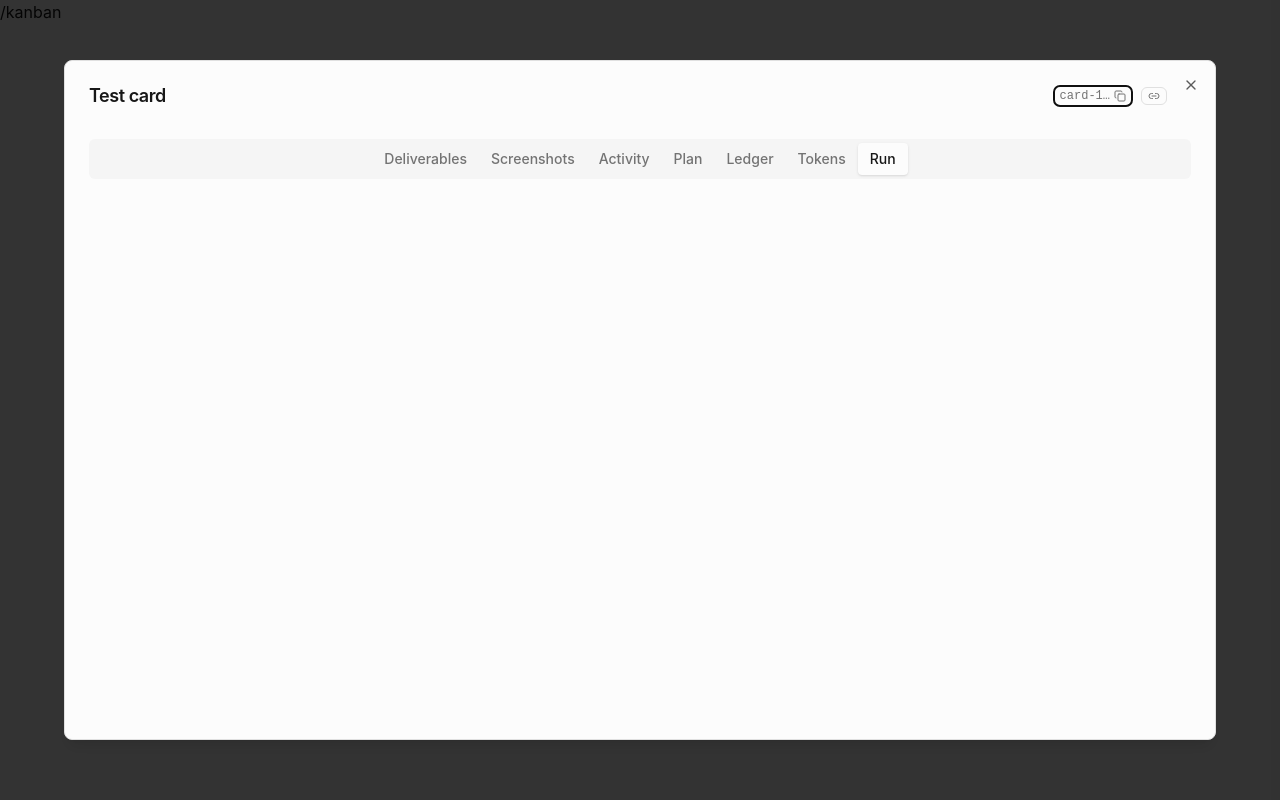
Test case: CardDrawer Ledger tab › offers the transcript link for a card with an active agent session
Step 1. Press the mouse on the tab "Ledger" → (750, 159), box [714,143,786,175]
(page scrolled)
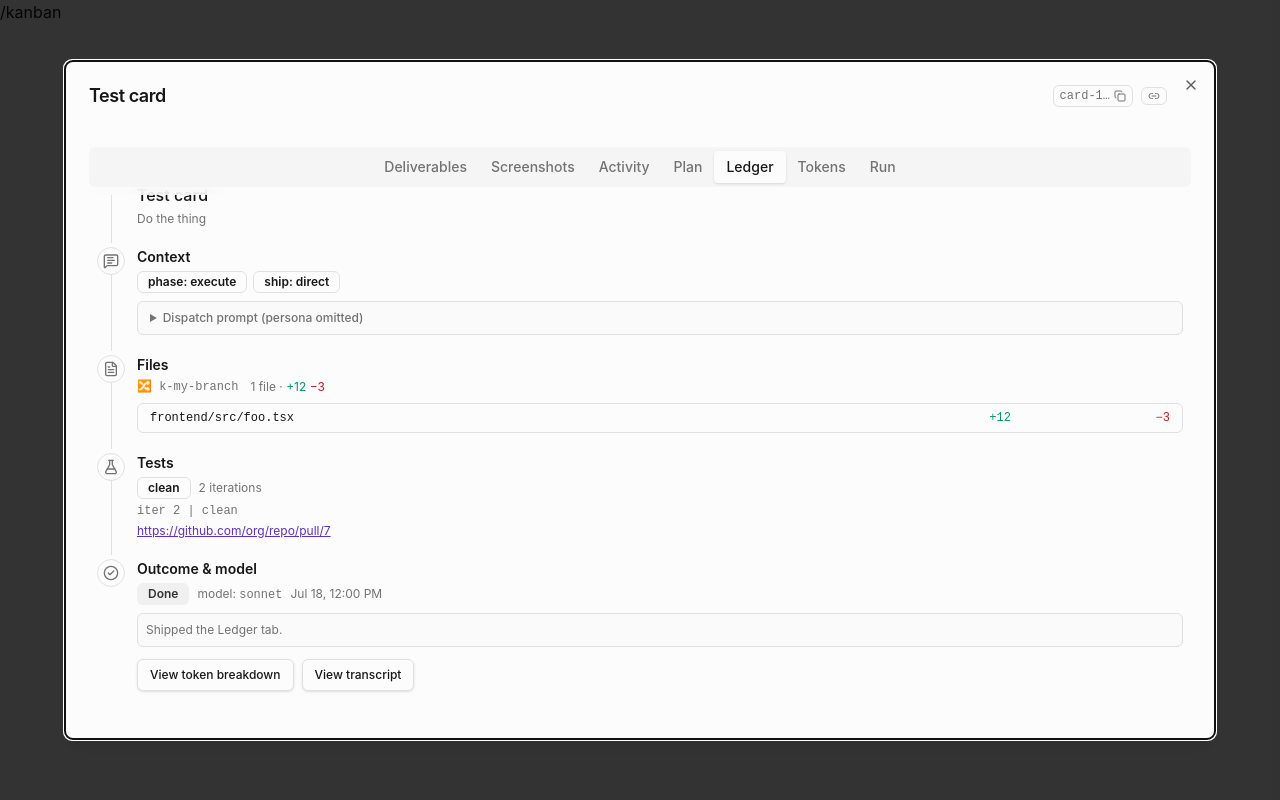
Check: the button with test id "ledger-link-run" is shown, box [302,659,414,691]
